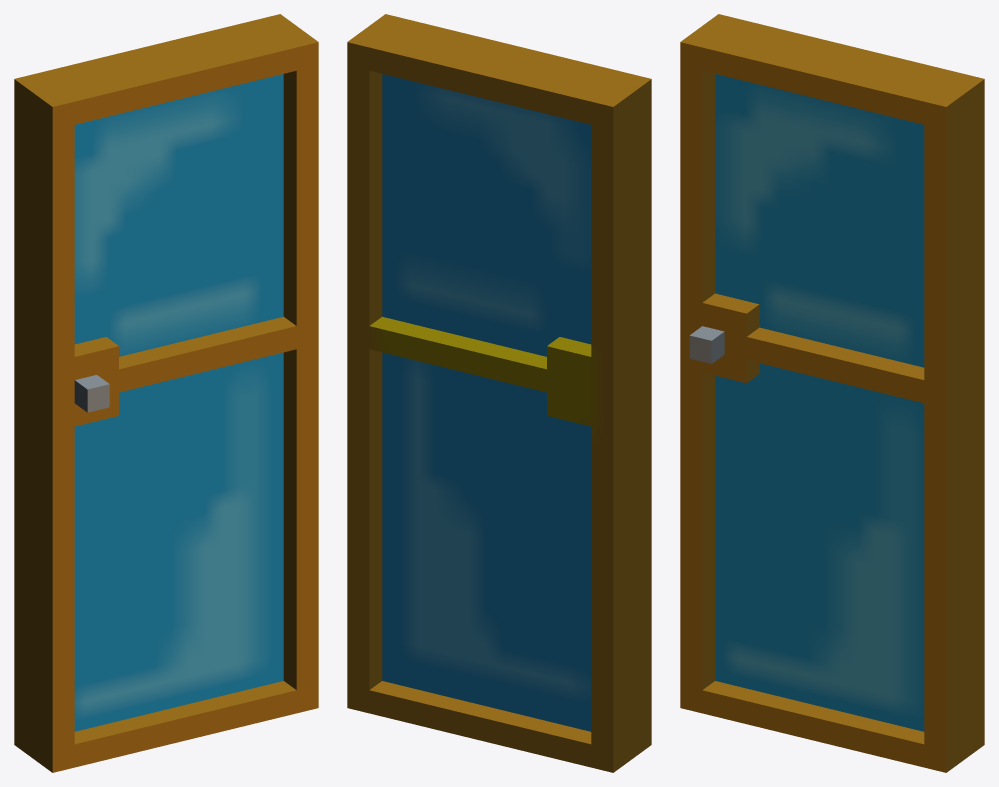
File: DoorB.fbx
3 views of the same model, side by side, from view 1: azimuth 30°, elevation 25°; view 2: azimuth 150°, elevation 25°; view 3: azimuth 330°, elevation 25° (orthographic).
Parts seen in each view (by area): view 1: DoorB; view 2: DoorB; view 3: DoorB.
Boxes of the visible parts, <box> form: DoorB: <box>14,14,318,772</box>; DoorB: <box>347,14,651,772</box>; DoorB: <box>680,14,984,772</box>.
Bounding box in the file's own units: 12 × 28.69 × 4.
